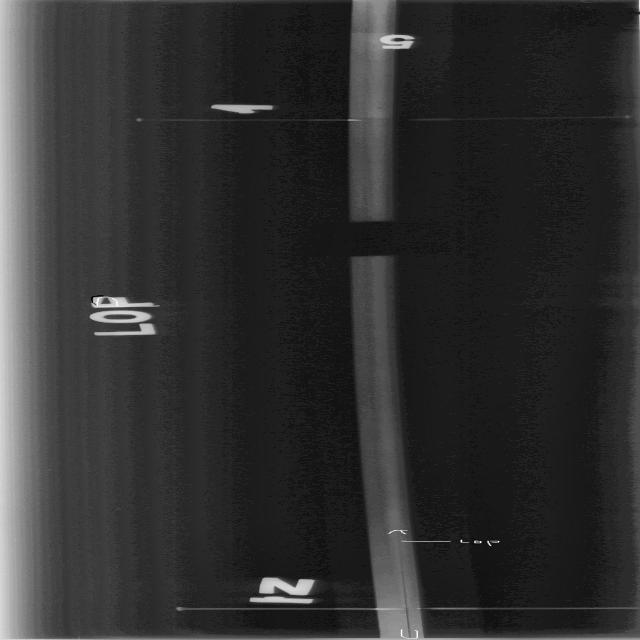LOP: (380, 347, 398, 525)
